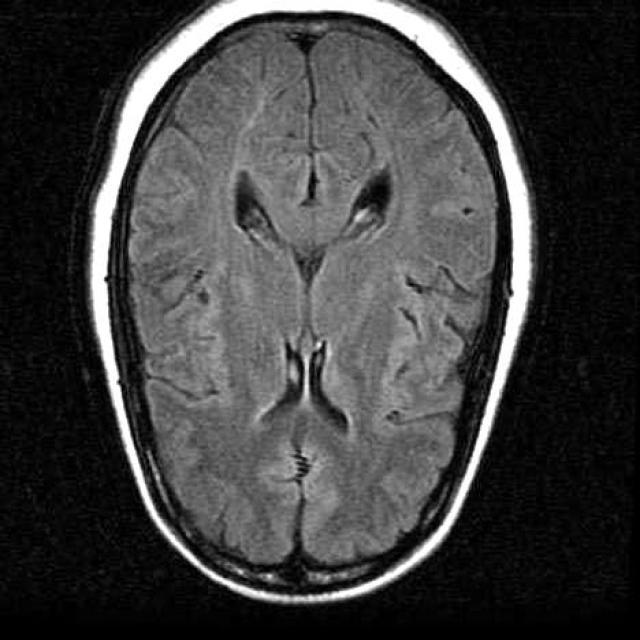notumor: (88, 0, 532, 604)
